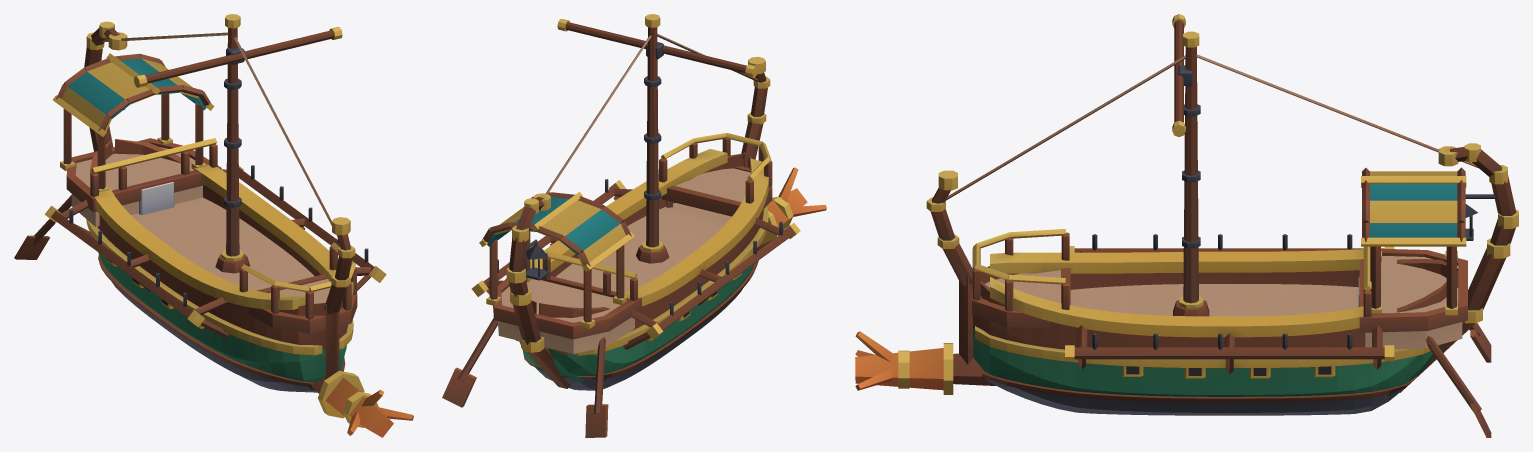
File: breaker-up.glb
The picture shows the model from 3 angles, left to right: view 1: azimuth 30°, elevation 25°; view 2: azimuth 150°, elevation 25°; view 3: azimuth 270°, elevation 25°; orthographic projection. The views are drawn at different scales.
Parts seen in each view (by area): view 1: breaker; view 2: breaker; view 3: breaker.
Part boxes in pixels (<box>): breaker: <box>14,14,413,437</box>; breaker: <box>442,14,826,437</box>; breaker: <box>855,14,1518,437</box>.
Size of the model in its own units: 3.24 by 5.05 by 8.2.
